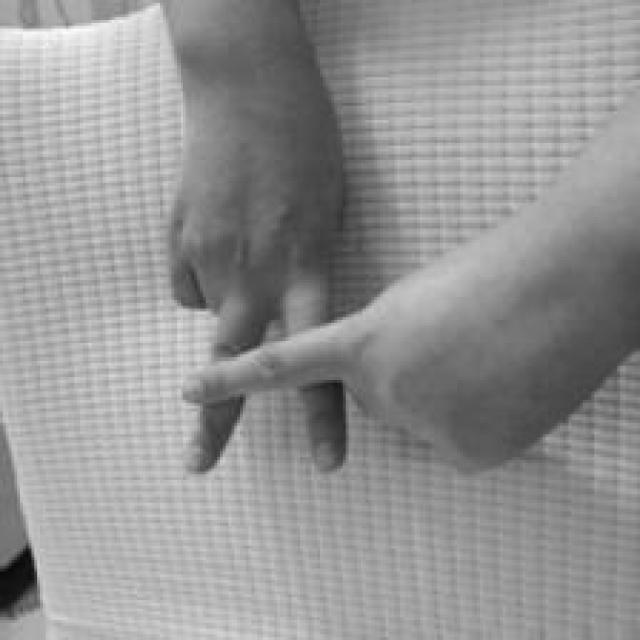A: (156, 0, 640, 489)
